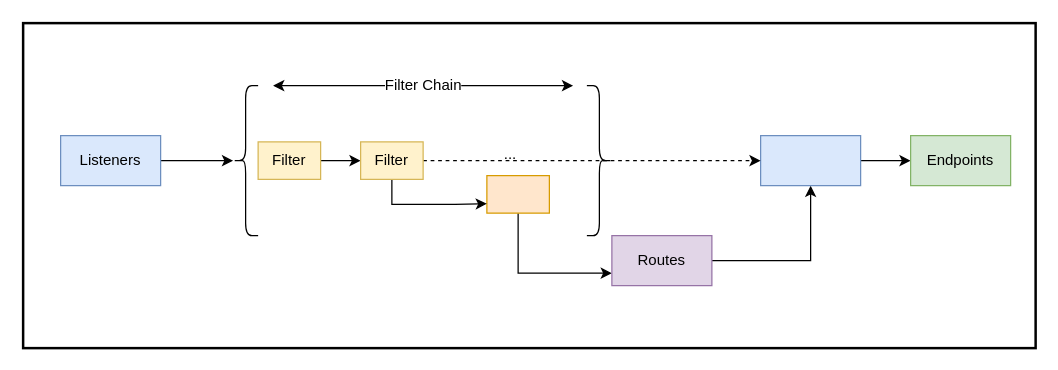
The diagram is 1058 pixels wide and 370 high, and some of its shapes have lost their labels. The shapes that lost their labels are listed below. From the top down, each one's box as (x1, y1, x2, y2) in pixels, then its label:
(759, 134, 861, 186): Clusters
(486, 174, 549, 213): HCM
